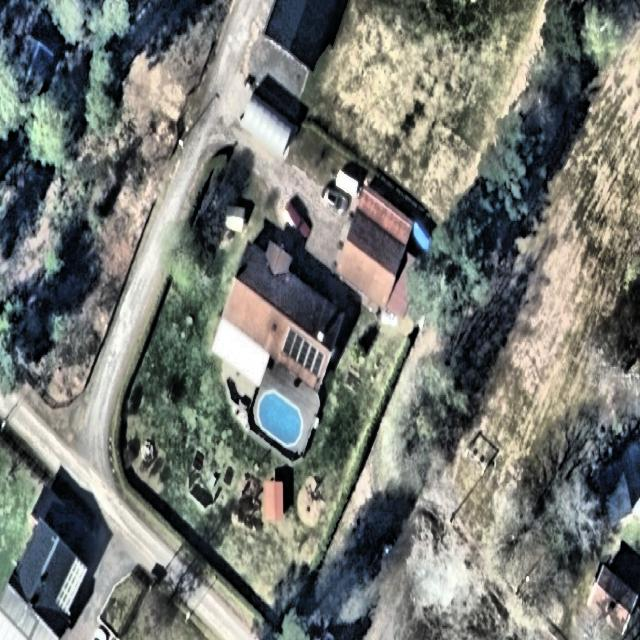roof_pv: (281, 325, 327, 381)
